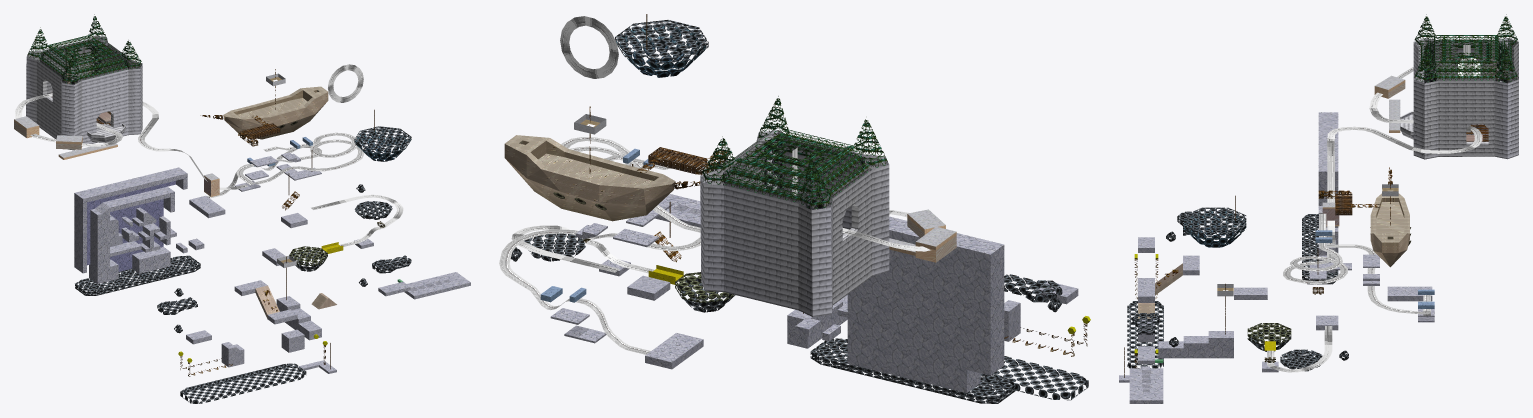
Rendered from rainbow_cruise_all.glb.
The picture shows the model from 3 angles, left to right: view 1: azimuth 30°, elevation 25°; view 2: azimuth 150°, elevation 25°; view 3: azimuth 270°, elevation 25°; orthographic projection. The views are drawn at different scales.
Visible parts, largest first — view 1: rainbow_cruise_all; view 2: rainbow_cruise_all; view 3: rainbow_cruise_all.
Part boxes in pixels (box(x1,y1,x2,y2)): rainbow_cruise_all: box(14, 14, 470, 403); rainbow_cruise_all: box(499, 14, 1090, 403); rainbow_cruise_all: box(1119, 14, 1518, 403).
Size of the model in its own units: 15.38 by 11.73 by 14.27.
8 materials, 8 textured.
